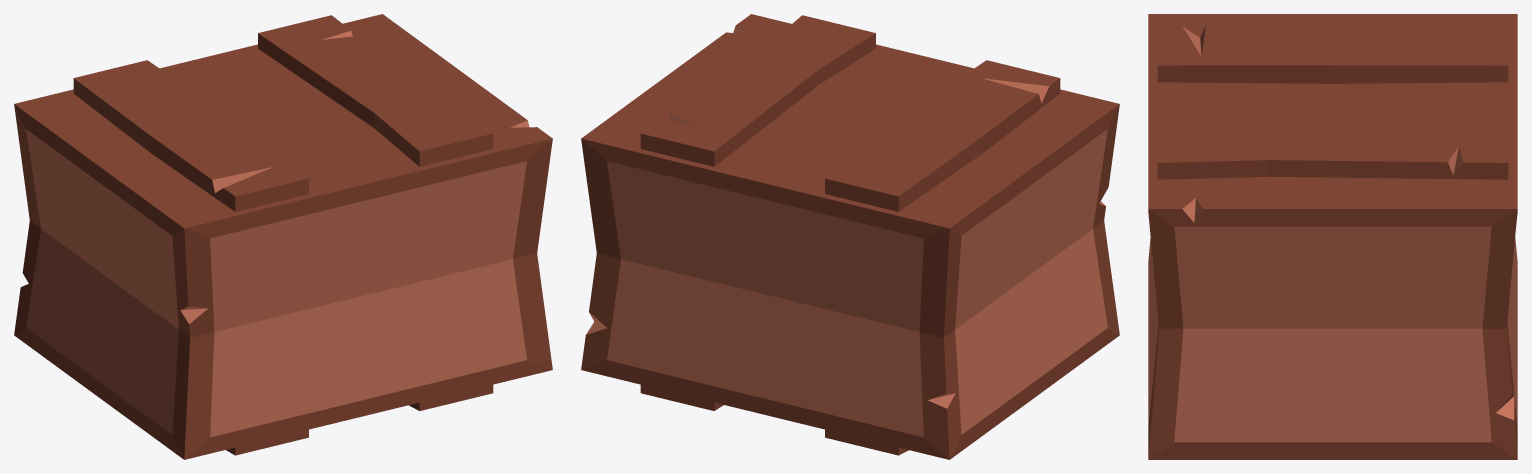
File: Box_5_Red.fbx
The picture shows the model from 3 angles, left to right: view 1: azimuth 30°, elevation 25°; view 2: azimuth 150°, elevation 25°; view 3: azimuth 270°, elevation 25°; orthographic projection. The views are drawn at different scales.
Visible parts, largest first — view 1: Box_5_Red_Part_1, Box_5_Red_Part_2; view 2: Box_5_Red_Part_1, Box_5_Red_Part_2; view 3: Box_5_Red_Part_1, Box_5_Red_Part_2.
Part boxes in pixels (<box>): Box_5_Red_Part_1: <box>14,14,552,459</box>; Box_5_Red_Part_2: <box>24,31,529,437</box>; Box_5_Red_Part_1: <box>581,14,1119,459</box>; Box_5_Red_Part_2: <box>586,26,1107,437</box>; Box_5_Red_Part_1: <box>1148,14,1517,459</box>; Box_5_Red_Part_2: <box>1148,26,1517,442</box>.
Size of the model in its own units: 50 by 34.22 by 40.
